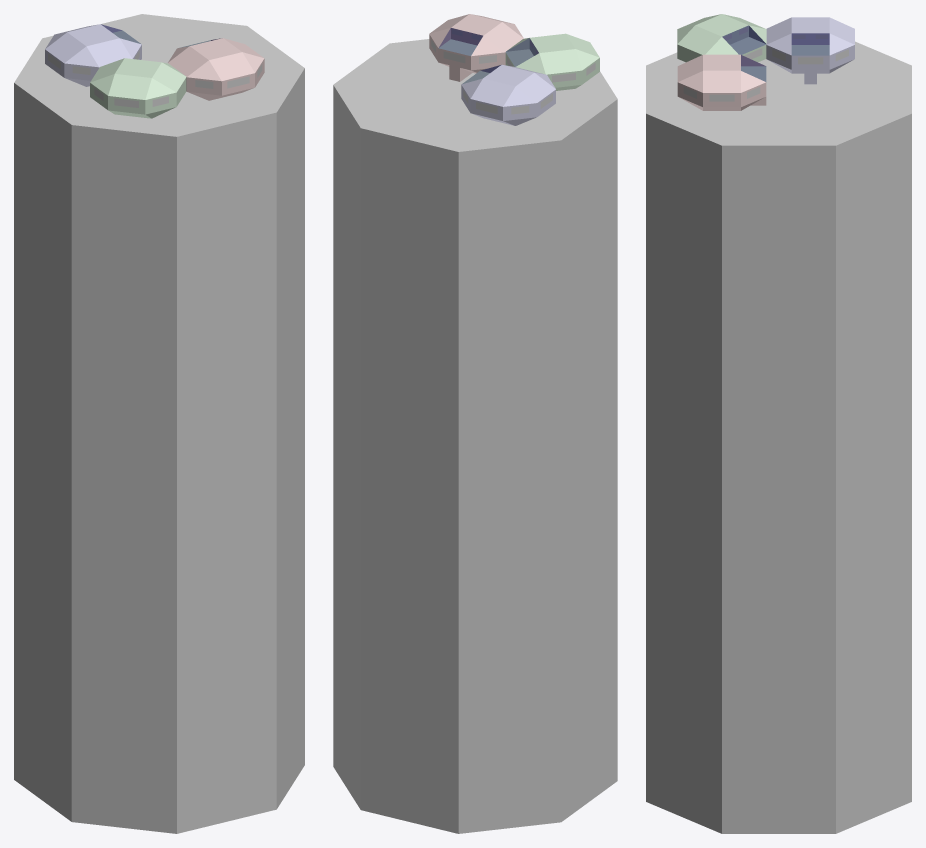
Rendered from combo1_lod1.dae.
The picture shows the model from 3 angles, left to right: view 1: azimuth 30°, elevation 25°; view 2: azimuth 150°, elevation 25°; view 3: azimuth 270°, elevation 25°; orthographic projection. The views are drawn at different scales.
Visible parts, largest first — view 1: combo_lod1; view 2: combo_lod1; view 3: combo_lod1.
Part boxes in pixels (box(x1,y1,x2,y2)): combo_lod1: box(14, 14, 304, 833); combo_lod1: box(333, 14, 617, 833); combo_lod1: box(646, 14, 911, 833).
Size of the model in its own units: 42 by 42 by 127.
